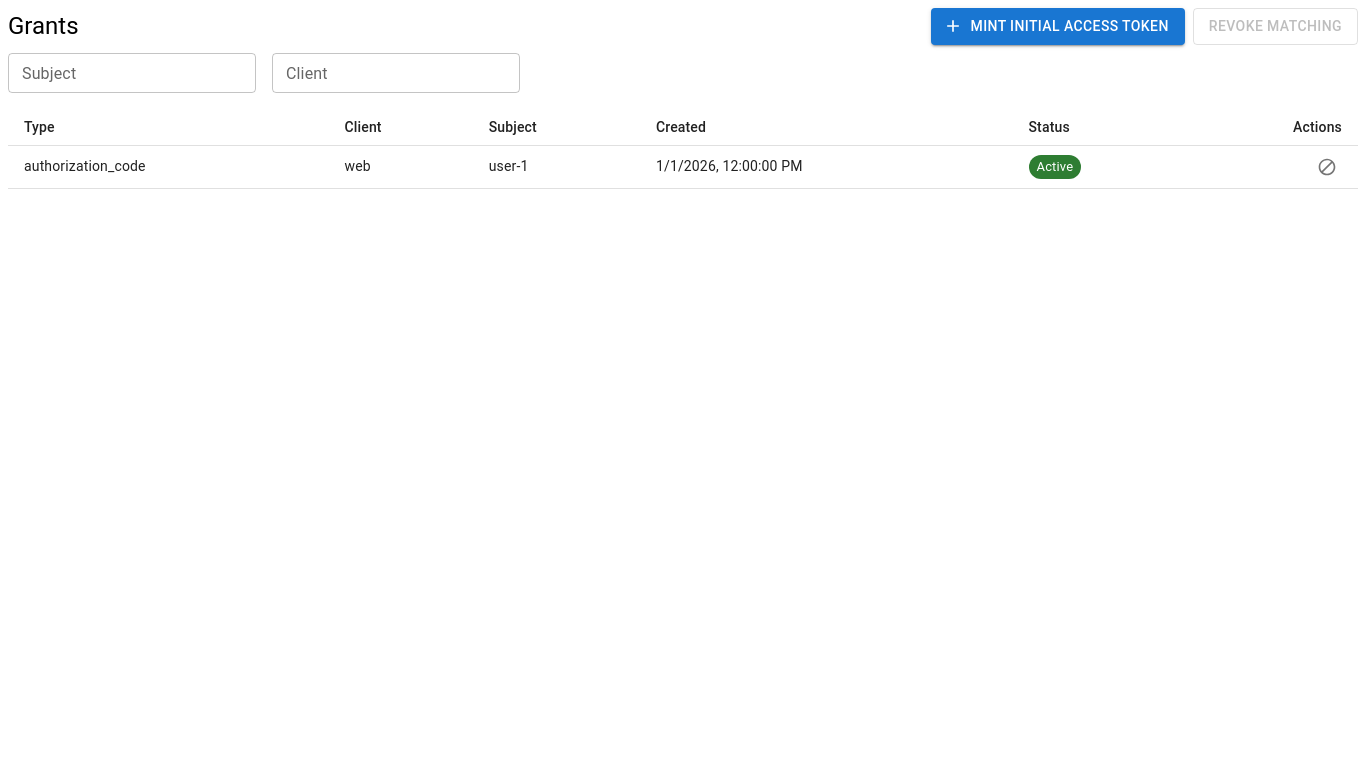
Test: GrantsPage (tenant-scoped revocation wiring) › keeps the revoke dialog open with the server problem detail when revocation fails
Click the button with test id "grant-revoke-g-1".
click(1327, 166)  # box [1312, 152, 1342, 182]
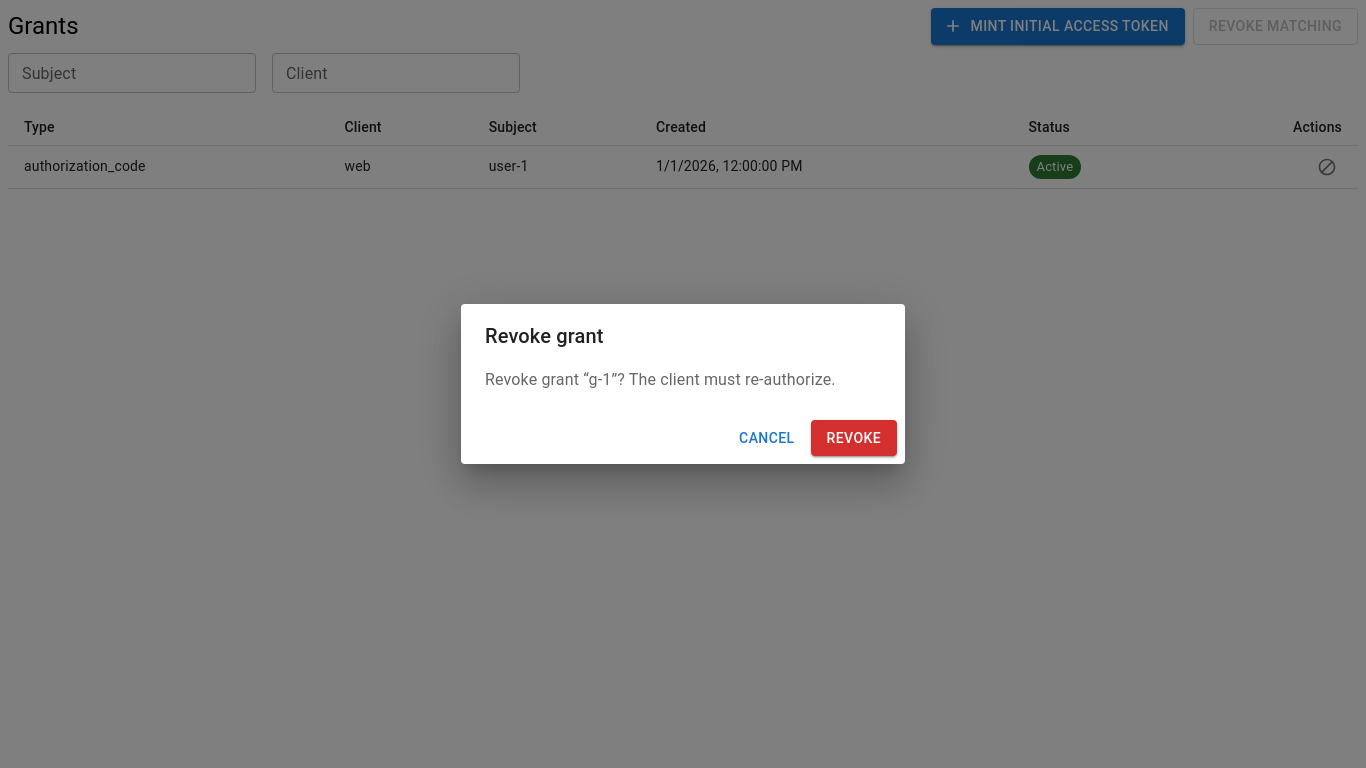
Click the button with test id "confirm-accept".
click(854, 438)  # box [810, 420, 897, 456]
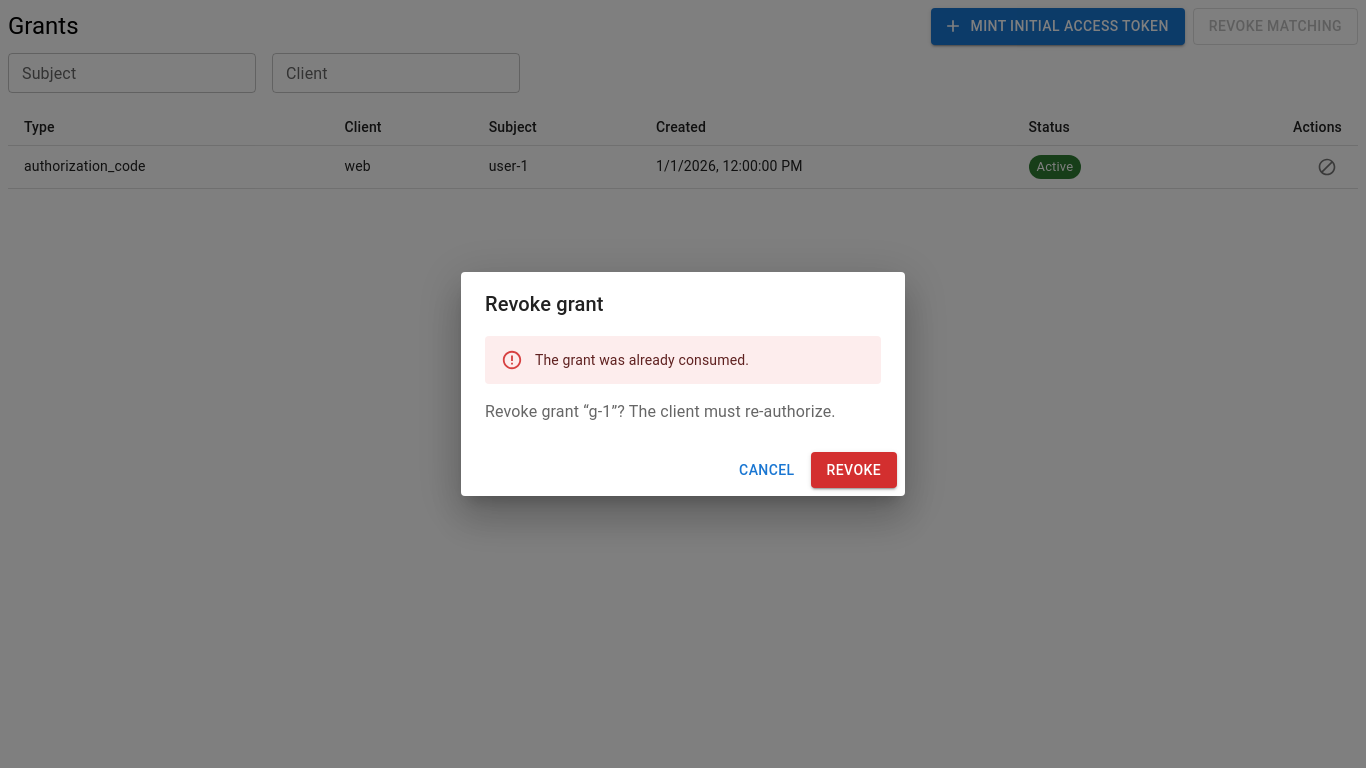
Now the message with test id "confirm-error" reads "The grant was already consumed.", box [535, 352, 749, 368]
Click the button with test id "confirm-cancel".
click(767, 470)  # box [731, 452, 803, 488]
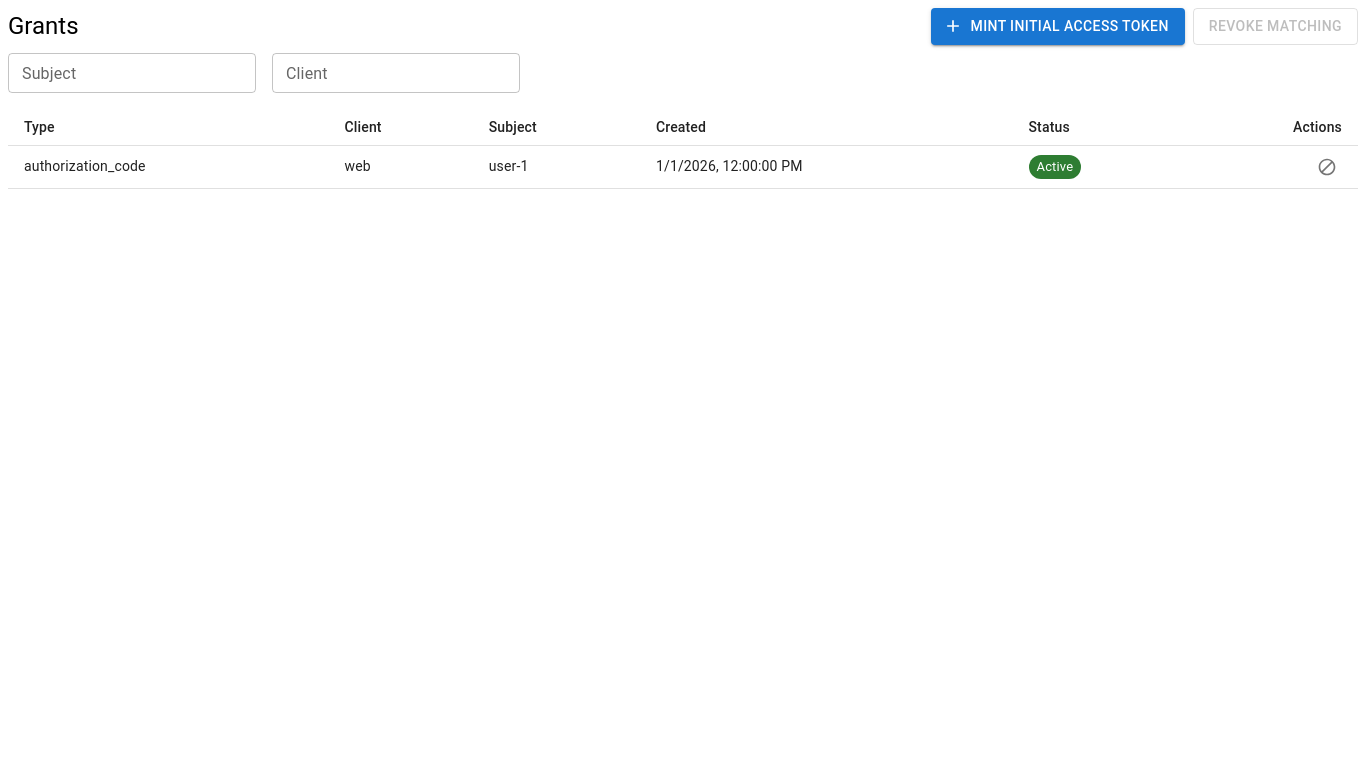
Now the button with test id "confirm-accept" is gone
